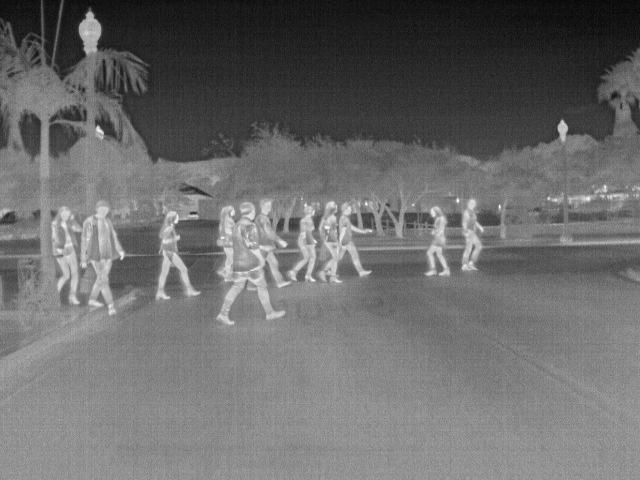person: (216, 200, 285, 326), (79, 201, 126, 315), (154, 210, 200, 302), (253, 196, 290, 288), (50, 204, 80, 306), (336, 200, 374, 279), (288, 203, 319, 283), (315, 200, 343, 282), (457, 196, 487, 271), (423, 206, 451, 278), (218, 204, 240, 282)
